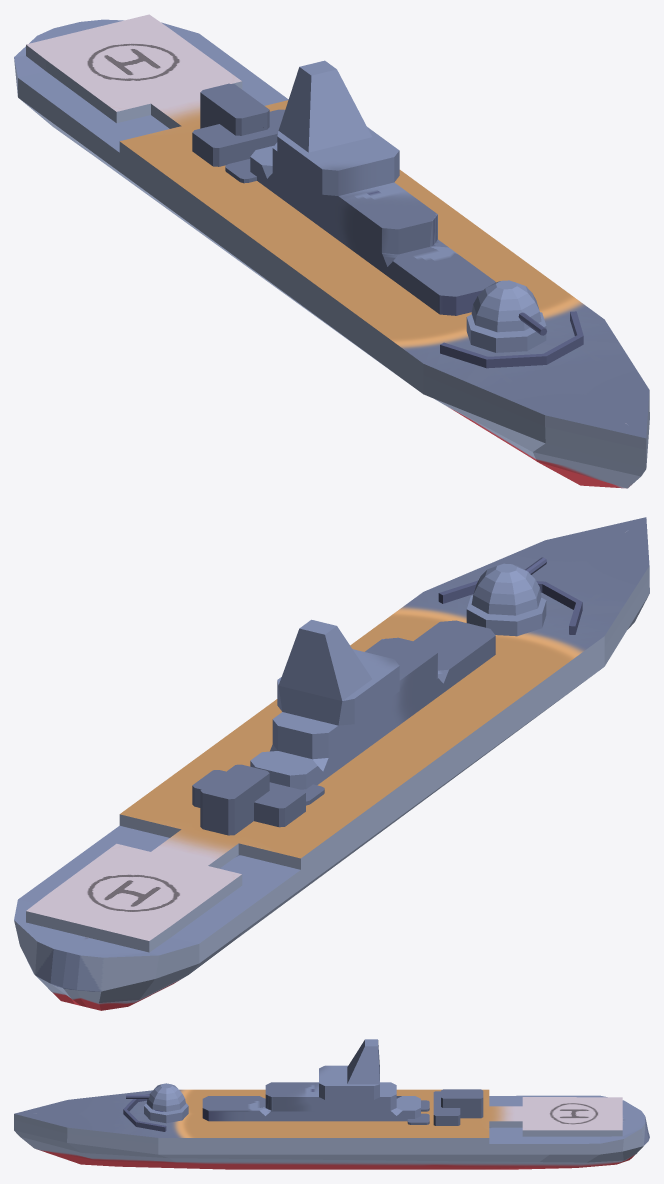
The model's file is cruiser.fbx.
The picture shows the model from 3 angles, top to bottom: view 1: azimuth 30°, elevation 25°; view 2: azimuth 150°, elevation 25°; view 3: azimuth 270°, elevation 25°; orthographic projection. The views are drawn at different scales.
Visible parts, largest first — view 1: Cube, Cube.001, Cube.003, Cylinder, Cylinder.002; view 2: Cube, Cube.001, Cube.003, Cylinder, Cylinder.002; view 3: Cube, Cube.001, Cube.003, Cylinder, Cylinder.002, Cube.002.
Part boxes in pixels (box(x1,y1,x2,y2)): Cube: box(14, 14, 649, 488); Cube.001: box(250, 60, 495, 315); Cube.003: box(192, 83, 284, 166); Cylinder: box(466, 280, 546, 352); Cylinder.002: box(440, 311, 583, 368); Cube: box(14, 517, 649, 1010); Cube.001: box(250, 619, 495, 789); Cube.003: box(192, 764, 305, 835); Cylinder: box(466, 563, 546, 636); Cylinder.002: box(438, 580, 582, 634); Cube: box(14, 1089, 649, 1169); Cube.001: box(202, 1039, 420, 1121); Cube.003: box(433, 1089, 483, 1125); Cylinder: box(144, 1083, 188, 1123); Cylinder.002: box(123, 1093, 166, 1131); Cube.002: box(407, 1100, 429, 1124).
Size of the model in its own units: 244 by 284 by 1360.
